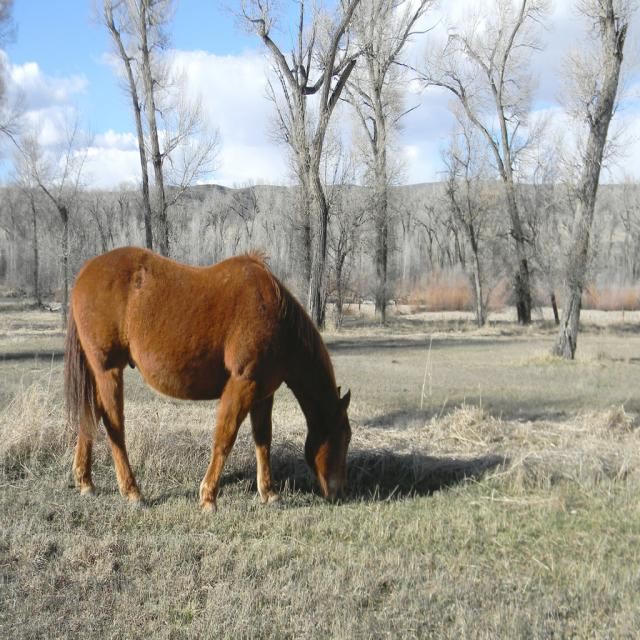Horse: (58, 242, 352, 514)
